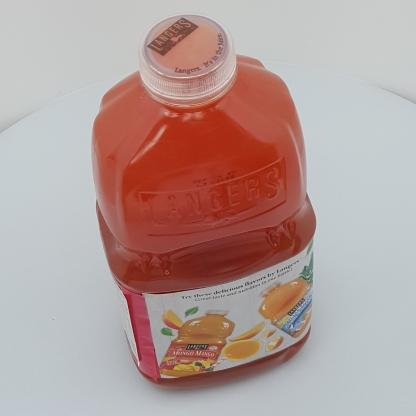-----------1-89L: (91, 13, 316, 390)
